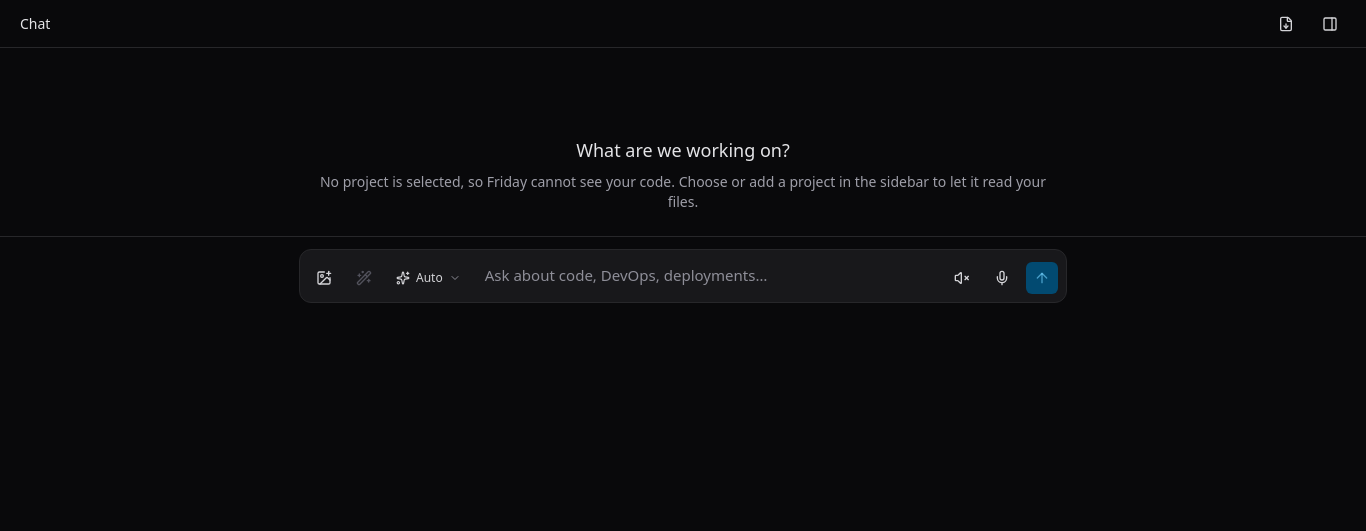
prompt enhancement › asks first, writes the prompt from the answers, and can be undone
The width and height of the screenshot is (1366, 531).
Expected: the button named "Improve prompt" is disabled, [348,262,380,294]
Type "make it faster" into the text box named "Message".
click(707, 276); type("make it faster")  # box [477,258,938,294]
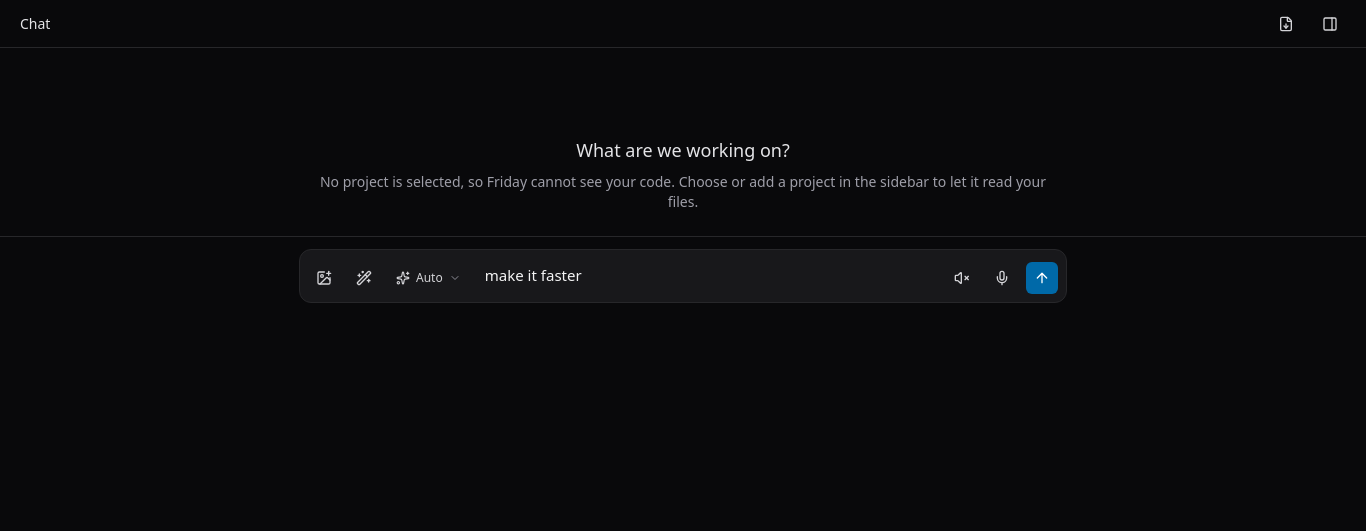
Click the button named "Improve prompt".
click(364, 278)  # box [348,262,380,294]
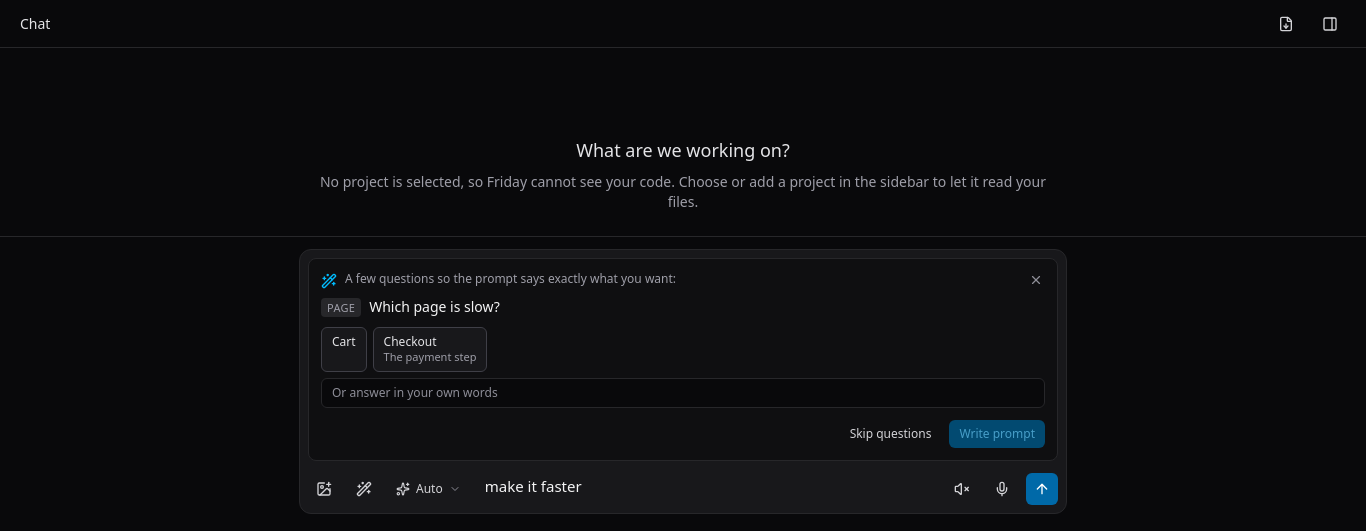
Expected: the button "Write prompt" is disabled, [949,420,1045,448]
Click the radio button labelled "Cart".
click(344, 349)  # box [321,327,367,372]
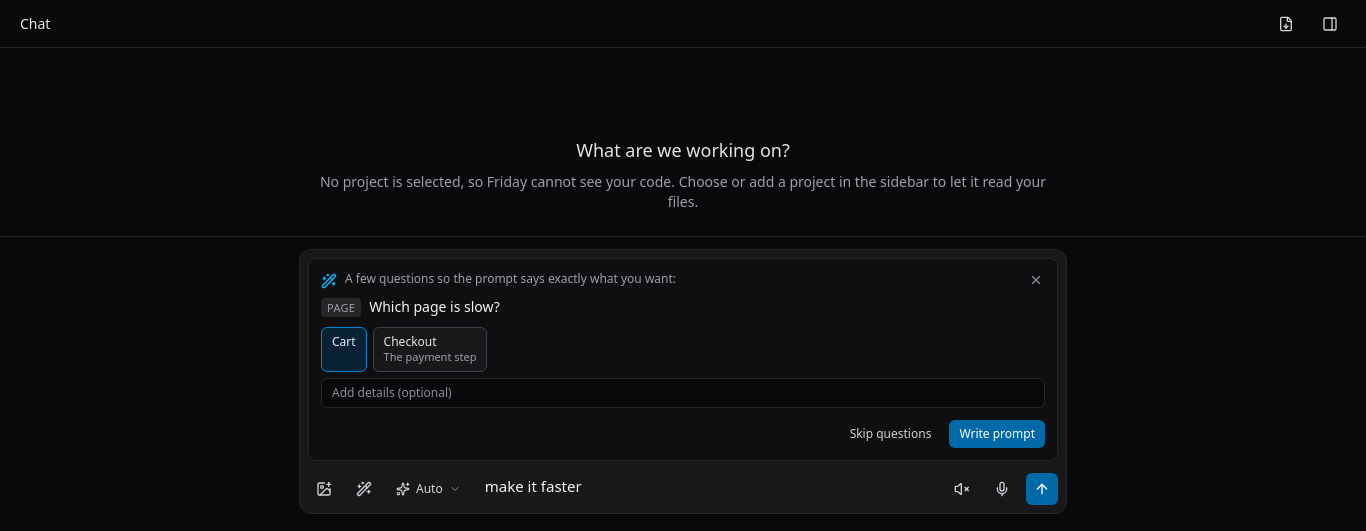
Type "on mobile" into the field named "Your own answer: Which page is slow?".
click(683, 393); type("on mobile")  # box [321,378,1045,408]
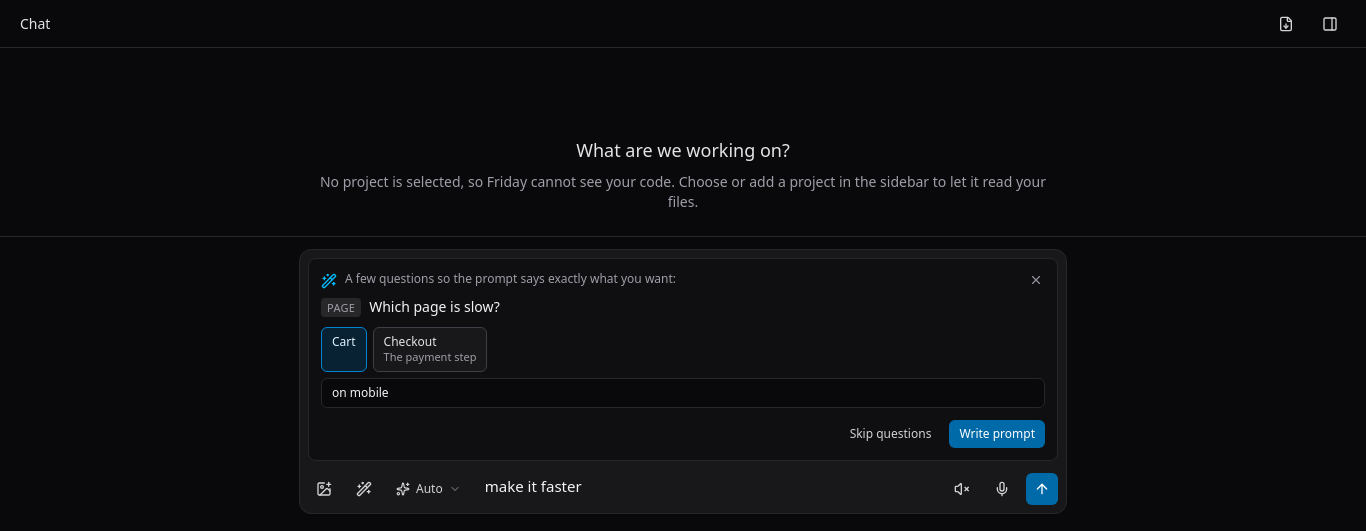
Expected: the button "Write prompt" is enabled
Click the button "Write prompt".
click(997, 434)  # box [949,420,1045,448]
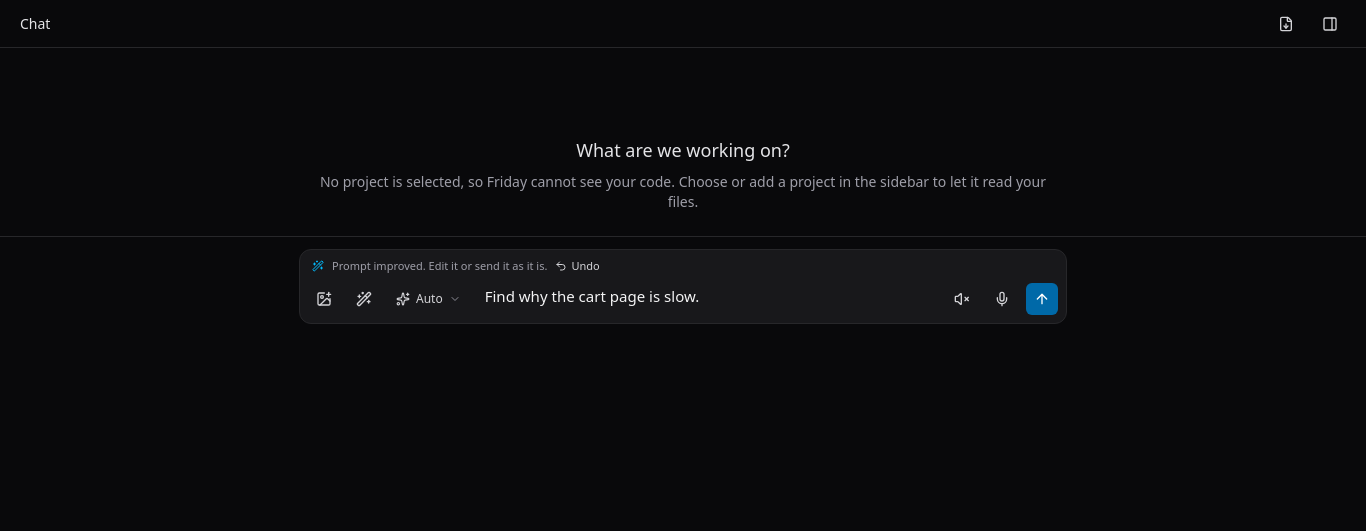
Expected: the text box named "Message" holds "Find why the cart page is slow.", [477,278,938,314]
Click the button "Undo".
click(578, 266)  # box [555,258,600,274]
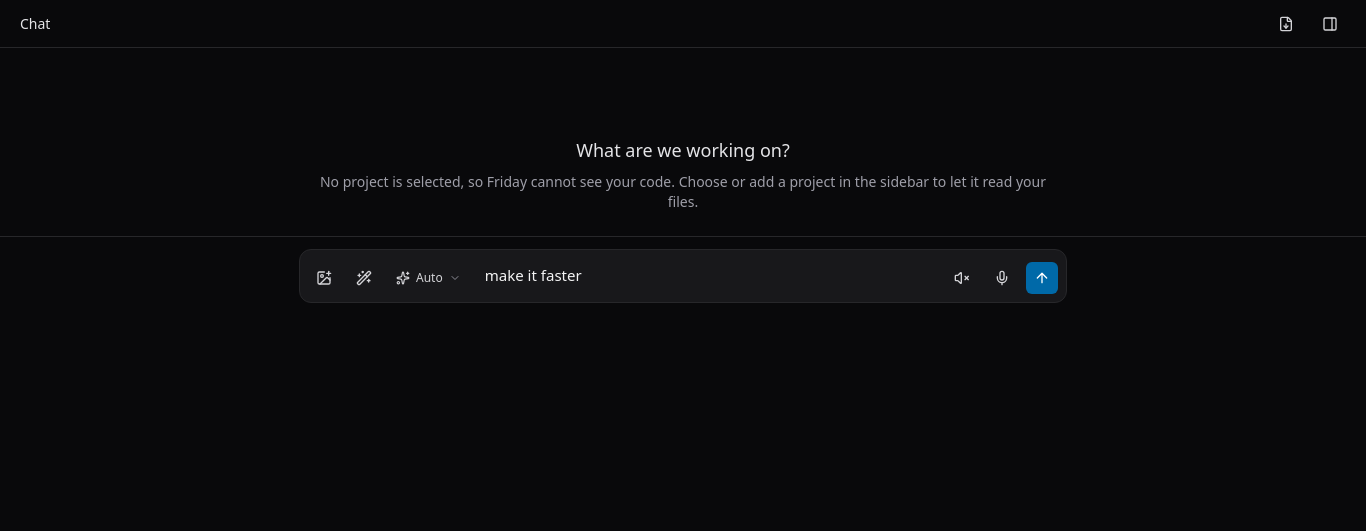
Expected: the button "Undo" is gone
